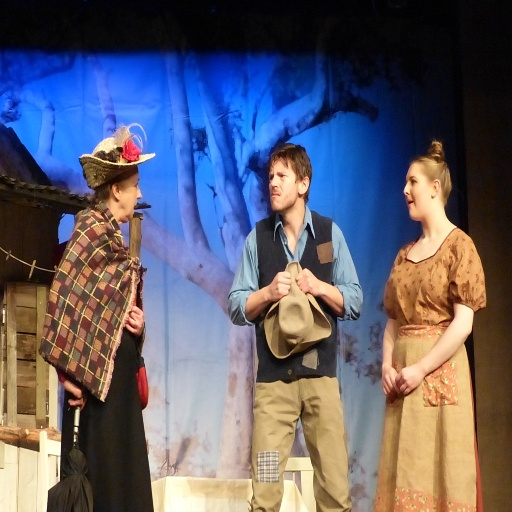hand: (394, 363, 421, 397), (268, 270, 290, 305), (62, 381, 88, 410), (124, 305, 146, 337), (295, 263, 318, 293), (379, 365, 397, 398)
